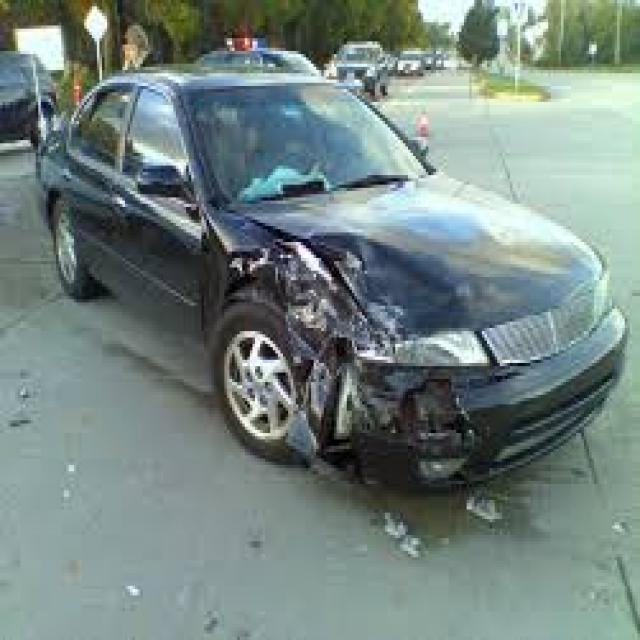moderate: (200, 241, 478, 472)
